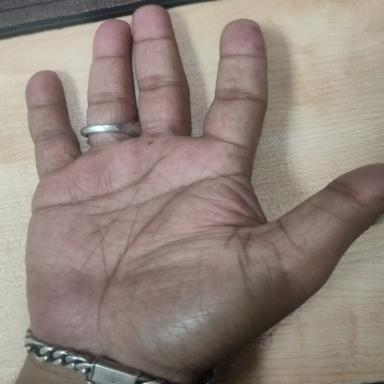normal skin: (26, 5, 382, 384)
